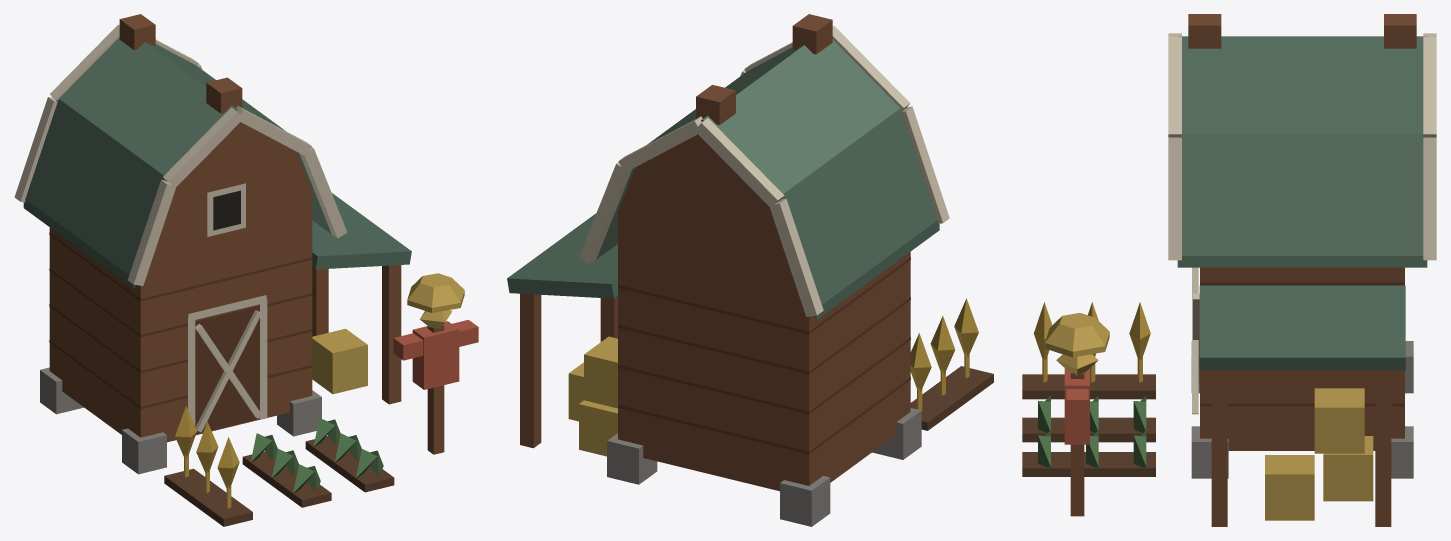
The model's file is farm.glb.
3 views of the same model, side by side, from view 1: azimuth 30°, elevation 25°; view 2: azimuth 150°, elevation 25°; view 3: azimuth 270°, elevation 25° (orthographic). The views are drawn at different scales.
Visible parts, largest first — view 1: farm; view 2: farm; view 3: farm.
Boxes of the visible parts, x1,y1,x2,y2 form: farm: [14, 14, 478, 526]; farm: [507, 14, 993, 526]; farm: [1022, 14, 1436, 526].
Size of the model in its own units: 0.3669 by 0.424 by 0.3904.
